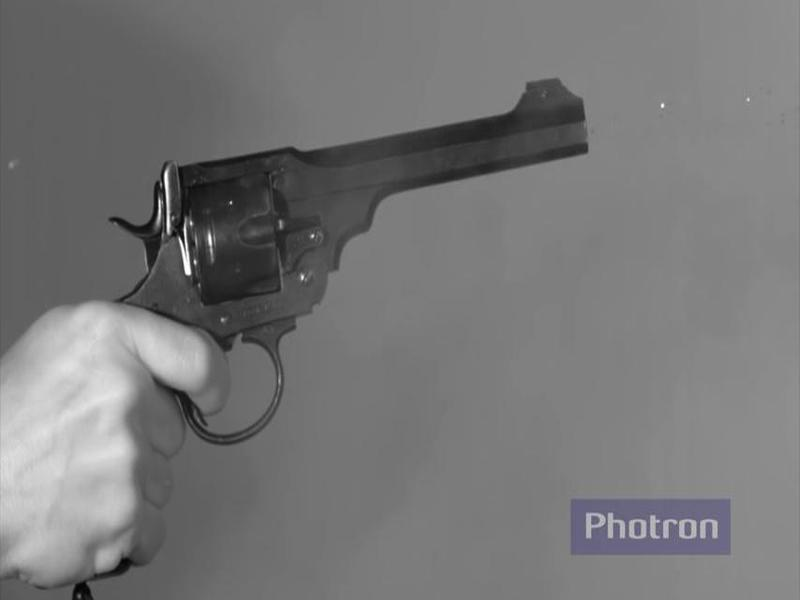Revolver: (106, 66, 607, 455)
